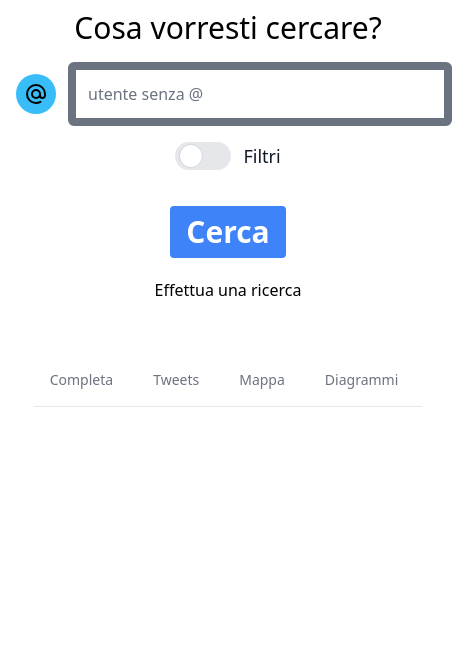
SearchForm component › should show filters when they're enabled
Click the checkbox with test id "^filtersToggle$": (228, 156) top-left (175, 142), bottom-right (281, 170)
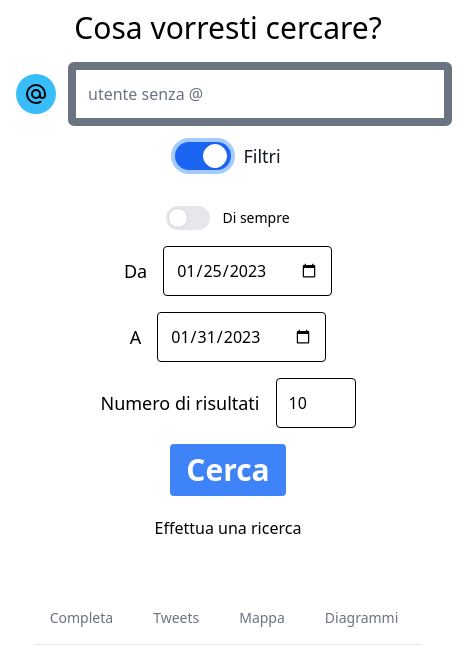
Result: the number field labelled "Numero di risultati" is shown at top-left (276, 378), bottom-right (356, 428)
Result: the date field labelled "Da" is shown at top-left (163, 246), bottom-right (332, 296)
Result: the date field labelled "A" is shown at top-left (157, 312), bottom-right (326, 362)
